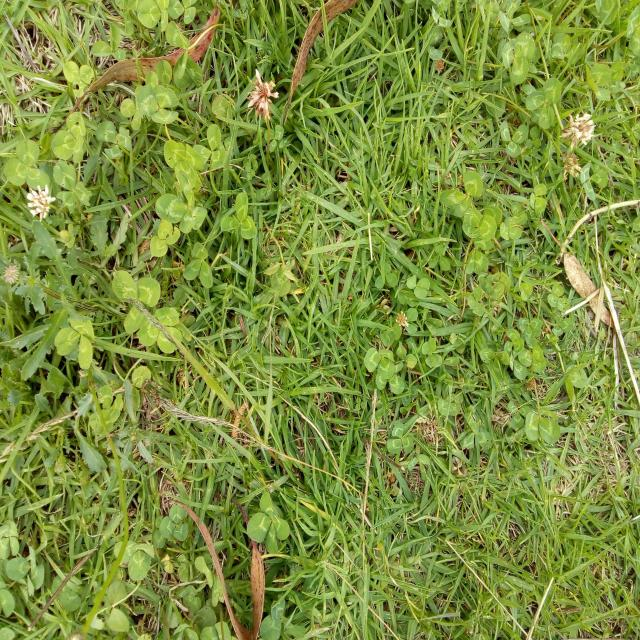Four Leaf Clover: (246, 491, 289, 554)
